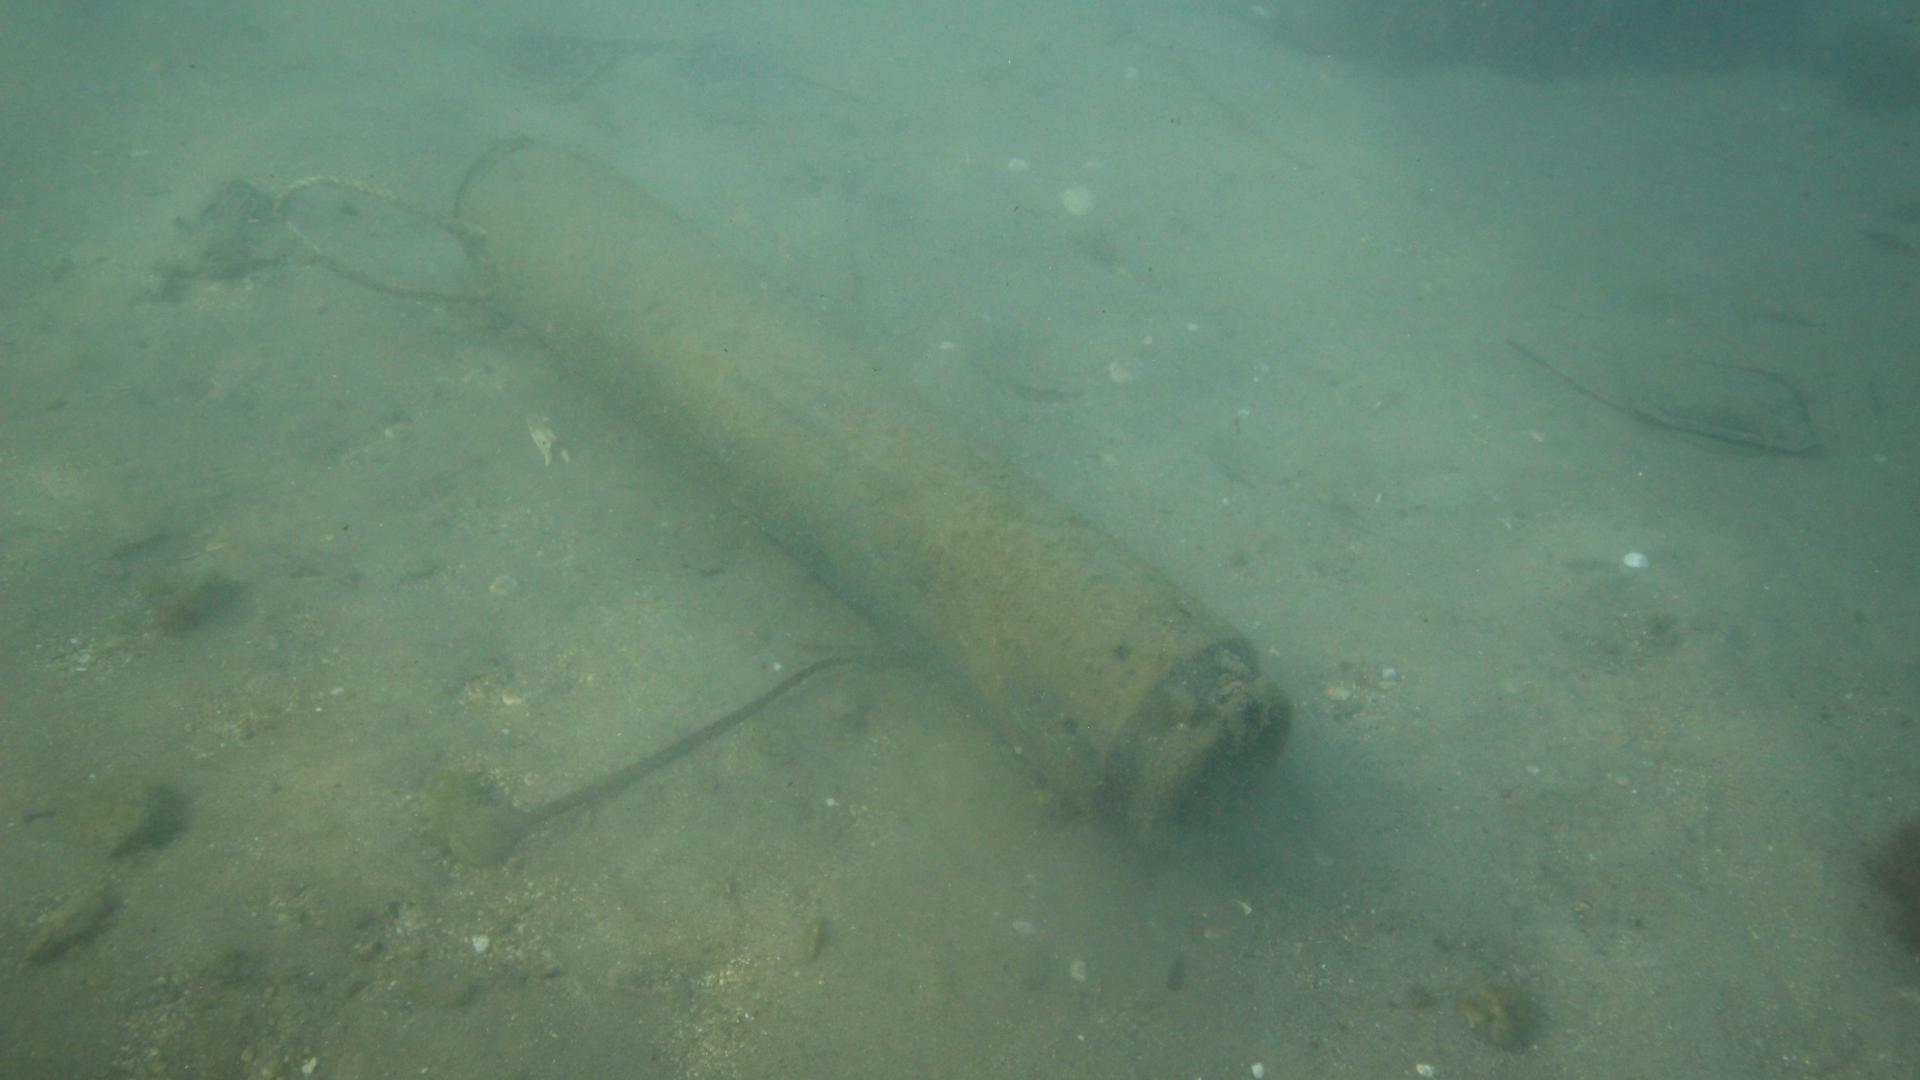eel fish trap: (443, 136, 1290, 851)
rope: (272, 167, 506, 316)
